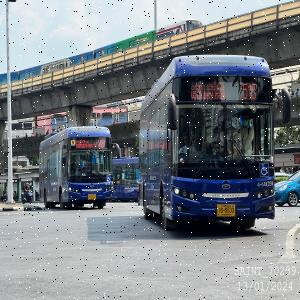Bus Line Number: (240, 80, 258, 102), (97, 138, 106, 148)
Bus Side Number: (256, 180, 273, 188), (105, 182, 114, 186)
Destination Sign: (189, 80, 226, 102), (75, 139, 97, 149)
TSB-Bus: (138, 55, 275, 230), (39, 126, 115, 209), (112, 158, 139, 202)
